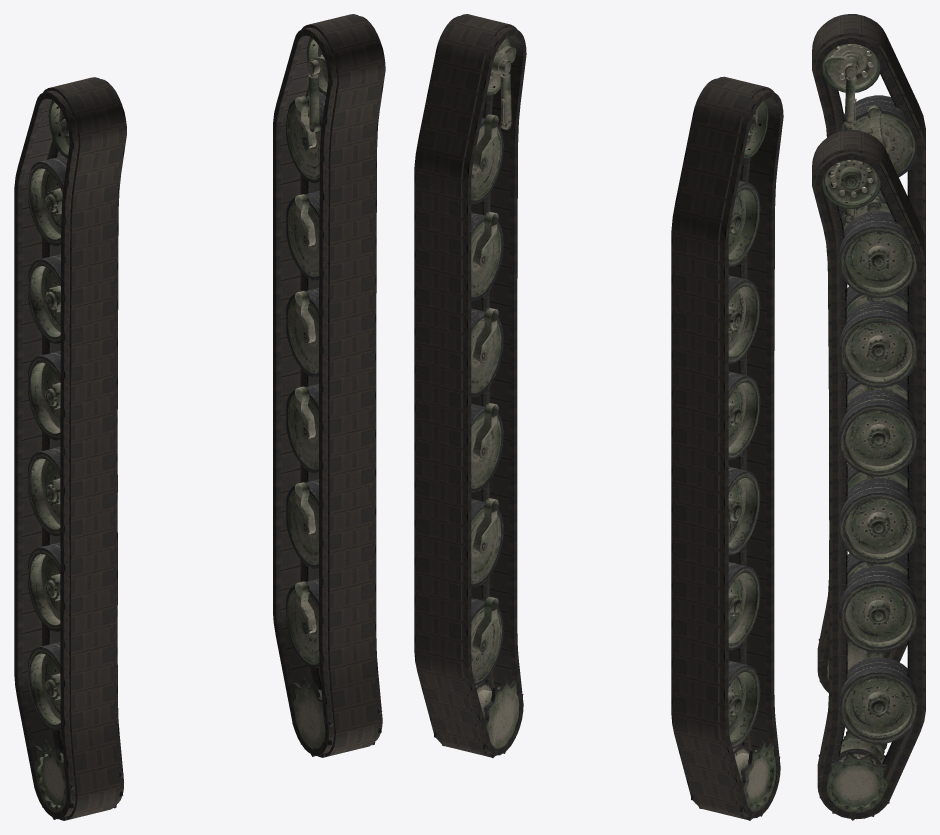
File: Chassis.glb
The picture shows the model from 3 angles, left to right: view 1: azimuth 30°, elevation 25°; view 2: azimuth 150°, elevation 25°; view 3: azimuth 270°, elevation 25°; orthographic projection. The views are drawn at different scales.
Visible parts, largest first — view 1: set_0_group_0, set_1_group_0, set_3_group_0, set_2_group_0; view 2: set_0_group_0, set_1_group_0, set_3_group_0, set_2_group_0; view 3: set_3_group_0, set_1_group_0, set_2_group_0, set_0_group_0.
Part boxes in pixels (box(x1,y1,x2,y2)): set_0_group_0: box(14, 77, 126, 820); set_1_group_0: box(273, 14, 385, 757); set_3_group_0: box(286, 37, 382, 757); set_2_group_0: box(28, 100, 123, 820); set_0_group_0: box(671, 76, 783, 819); set_1_group_0: box(414, 14, 526, 757); set_3_group_0: box(434, 37, 523, 757); set_2_group_0: box(691, 100, 780, 820); set_3_group_0: box(818, 160, 916, 820); set_1_group_0: box(812, 130, 925, 819); set_2_group_0: box(818, 44, 916, 683); set_0_group_0: box(812, 14, 925, 692).
Size of the model in its own units: 3.42 by 7.62 by 1.17.
Materials: 4 (4 with a texture image).
